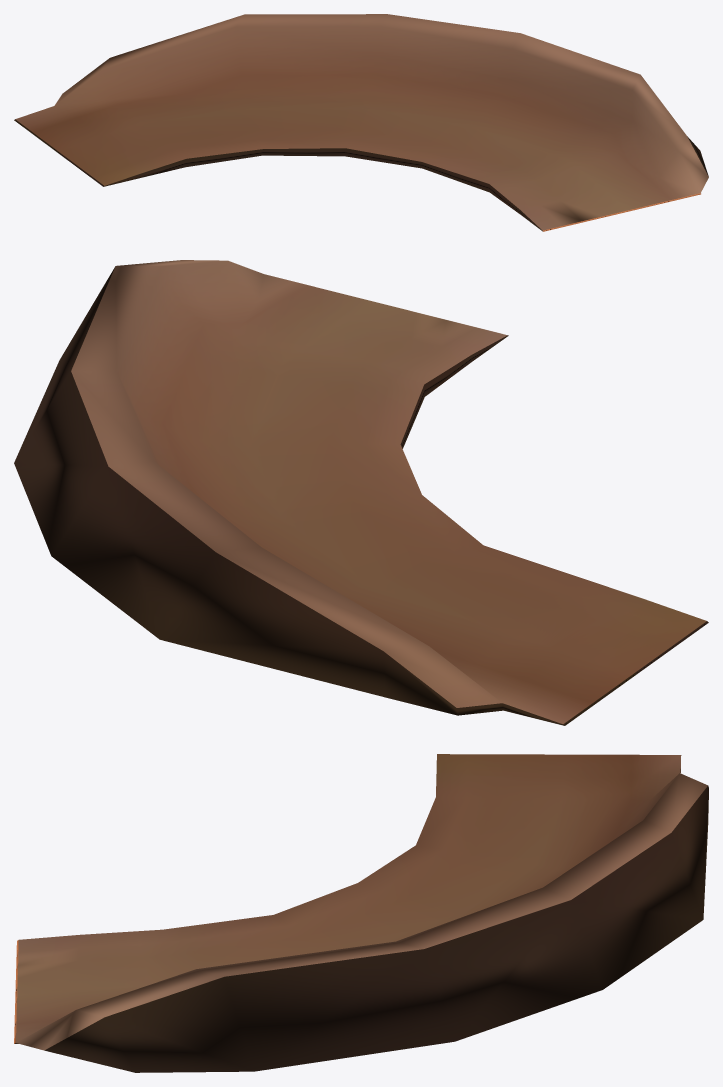
The model's file is DirtBikeTrackCurvedBerm.glb.
3 renders of one model, top to bottom at view 1: azimuth 30°, elevation 25°; view 2: azimuth 150°, elevation 25°; view 3: azimuth 270°, elevation 25°, orthographic. The views are drawn at different scales.
Parts seen in each view (by area): view 1: DirtBikeTrackCurvedBerm; view 2: DirtBikeTrackCurvedBerm; view 3: DirtBikeTrackCurvedBerm.
Part boxes in pixels (x1,y1,x2,y2): DirtBikeTrackCurvedBerm: (14, 14, 708, 231); DirtBikeTrackCurvedBerm: (14, 260, 708, 725); DirtBikeTrackCurvedBerm: (14, 754, 708, 1072).
Size of the model in its own units: 12.35 by 1.42 by 11.38.
Materials: 1 (1 with a texture image).
